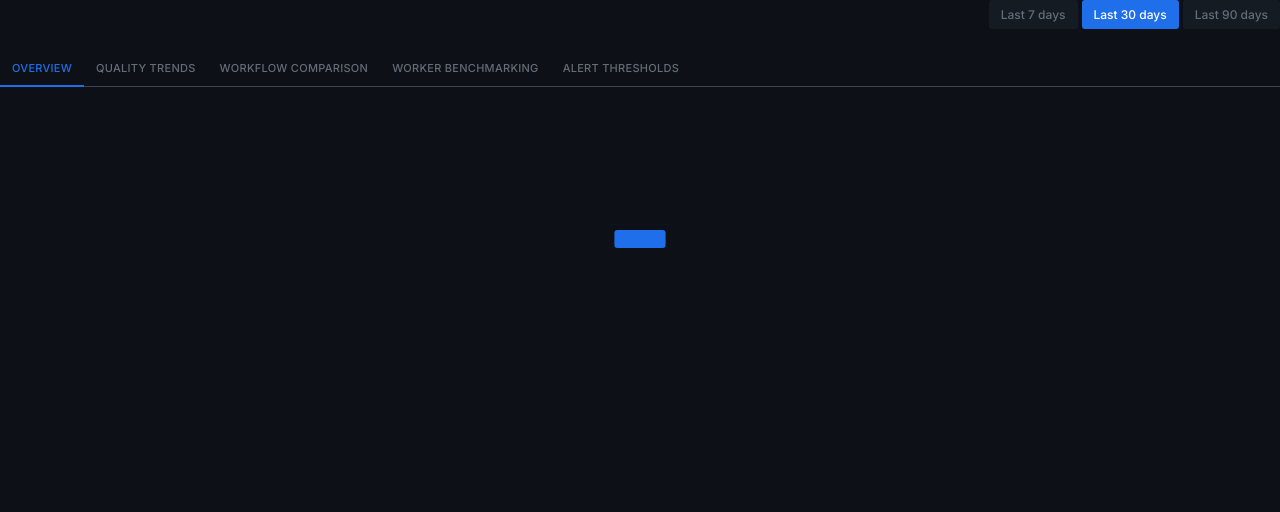
Test: PerformanceDashboard › switches to Quality Trends tab
Click the tab "Quality Trends" at (146, 70), box [84,53,208,86]
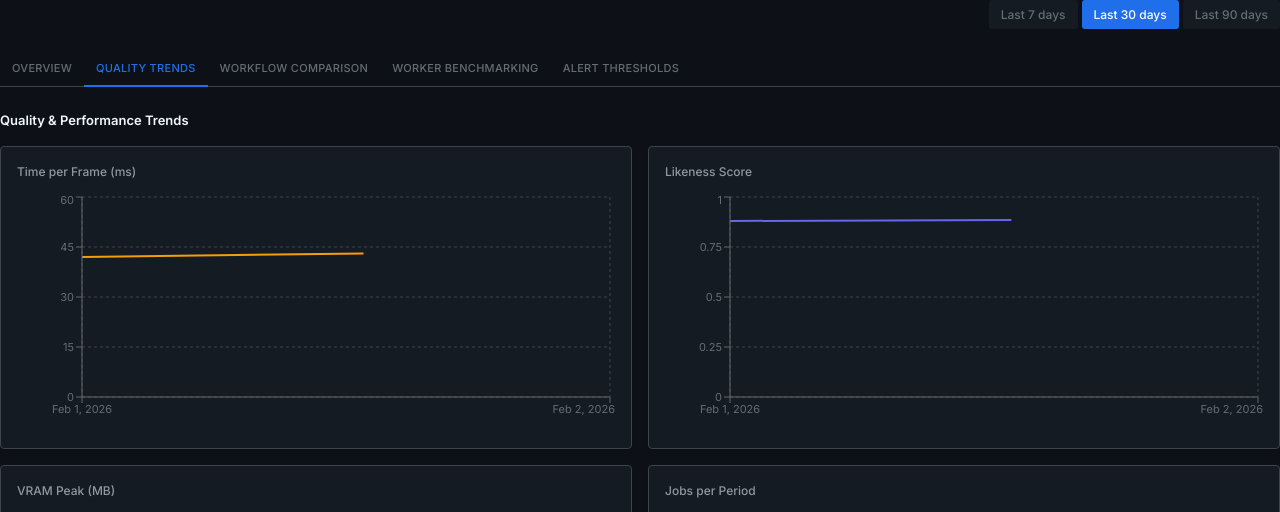
Expected: the heading "Quality & Performance Trends" is shown, [0,112,189,128]
